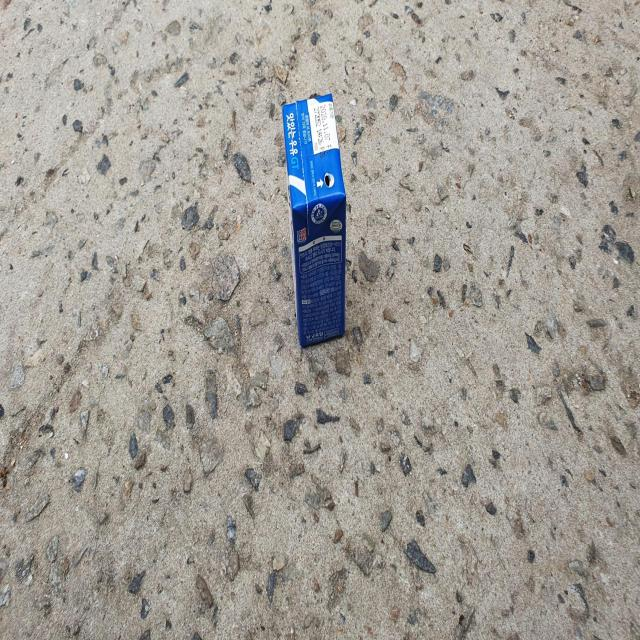paperpack: (282, 92, 346, 346)
